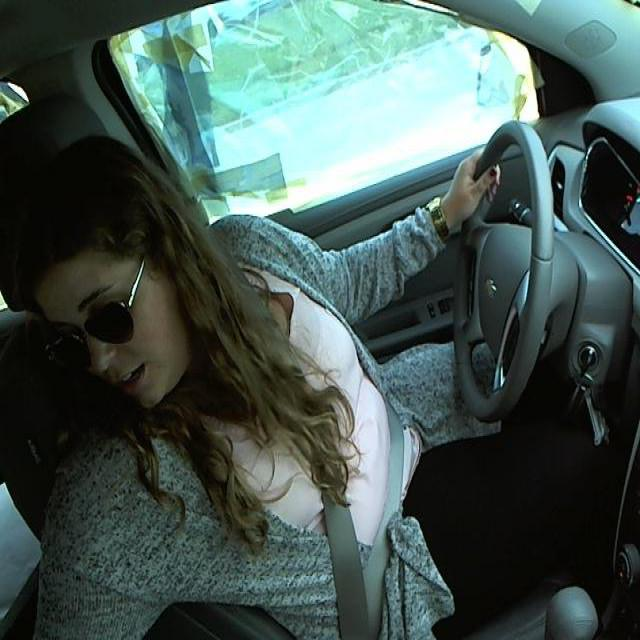seatbelt: (228, 300, 409, 637)
